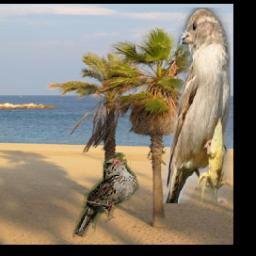Sparrow: (163, 8, 231, 203), (73, 152, 140, 239)
